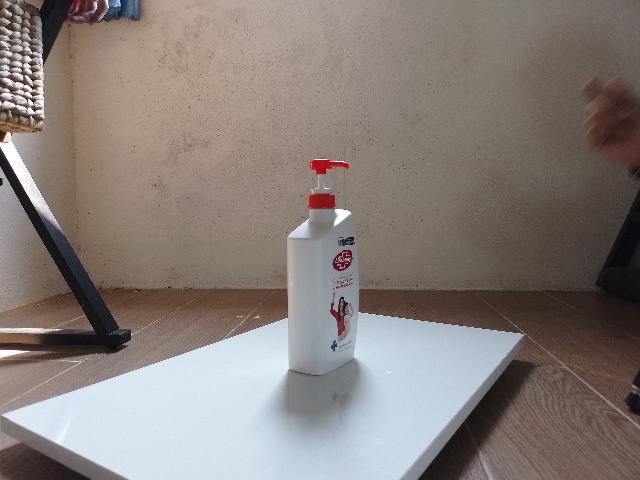life-buoy: (287, 159, 359, 376)
